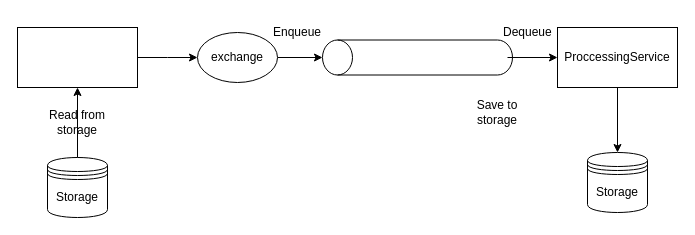
Image size: 695x235. Some labels were removed from this diagram. The shapes that lost their labels are listed below. From the top down, each one's box as (x1, y1, x2, y2) in pixels, then its label:
(16, 26, 138, 88): DataCaptureService
(322, 39, 512, 75): Rabbitmq queue
